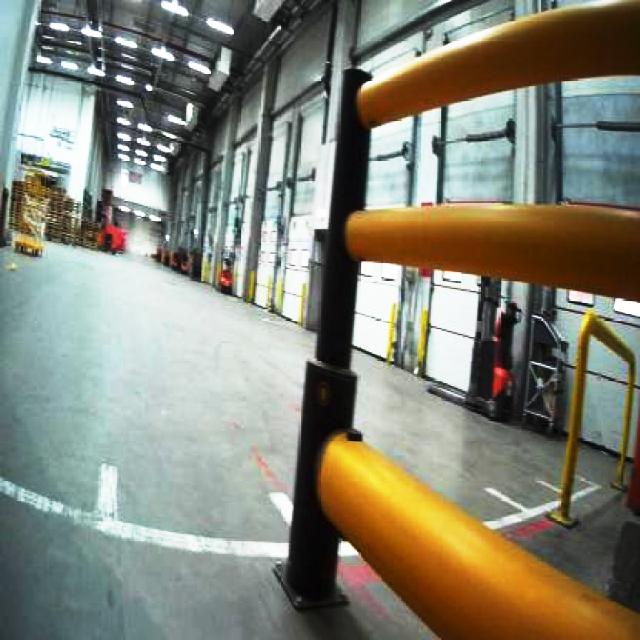ground: (0, 234, 638, 638)
pallet: (6, 174, 106, 252), (45, 185, 103, 249), (8, 177, 48, 257), (45, 185, 75, 243), (74, 218, 102, 249), (12, 232, 43, 255)
